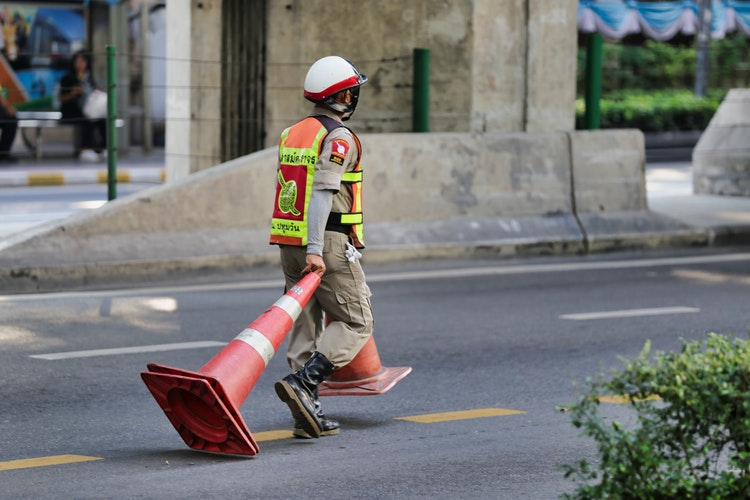helmet: (305, 45, 365, 91)
